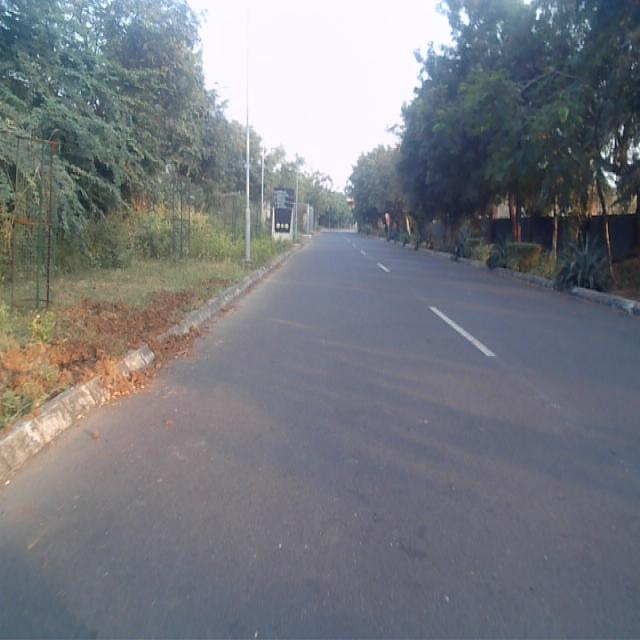lane: (0, 235, 640, 640)
